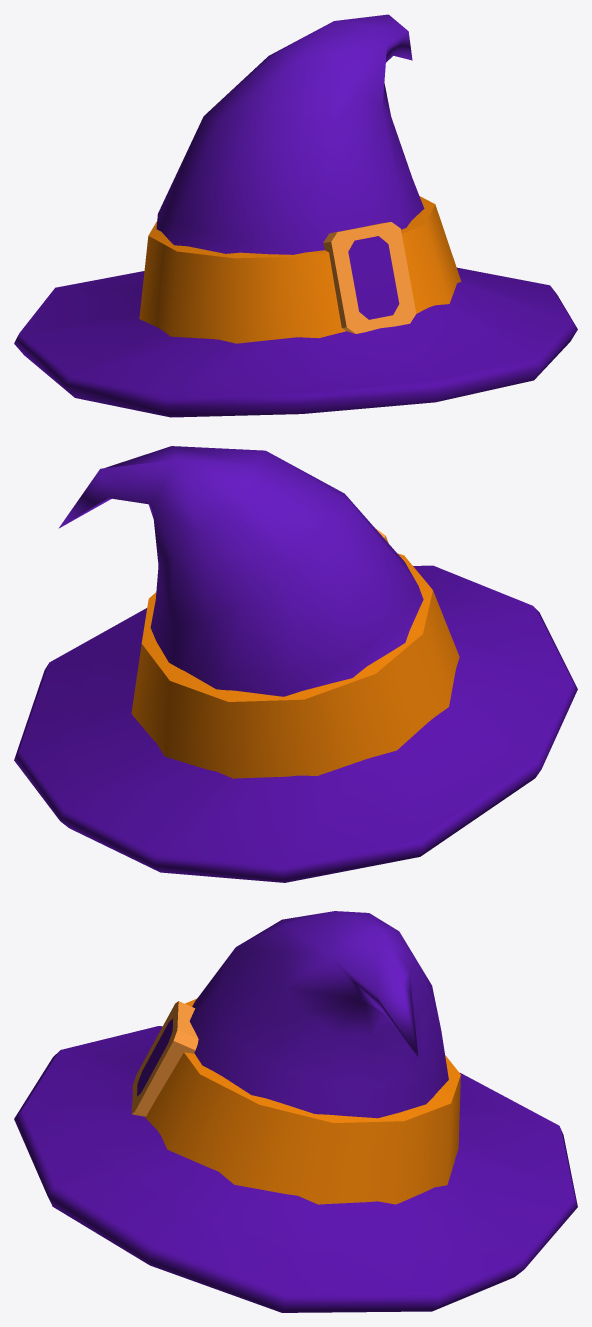
The model's file is Headgear_49.fbx.
3 renders of one model, top to bottom at view 1: azimuth 30°, elevation 25°; view 2: azimuth 150°, elevation 25°; view 3: azimuth 270°, elevation 25°, orthographic. The views are drawn at different scales.
Parts seen in each view (by area): view 1: Headgear_49; view 2: Headgear_49; view 3: Headgear_49.
Part boxes in pixels (<box>): Headgear_49: <box>14,14,577,417</box>; Headgear_49: <box>14,446,577,882</box>; Headgear_49: <box>14,911,577,1312</box>.
Bounding box in the file's own units: 148 × 93.26 × 146.
